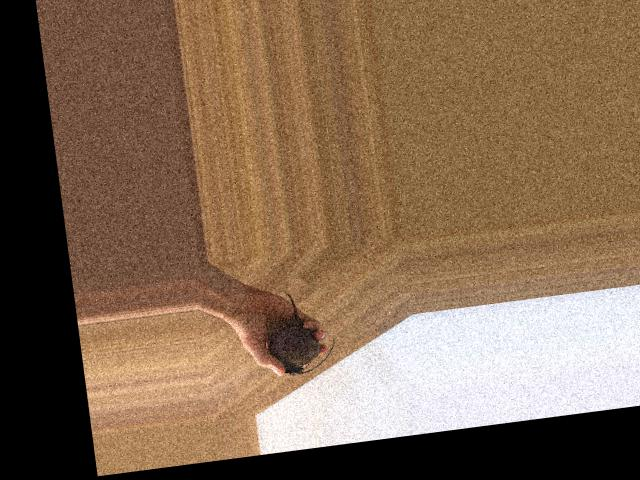beet: (262, 286, 339, 378)
